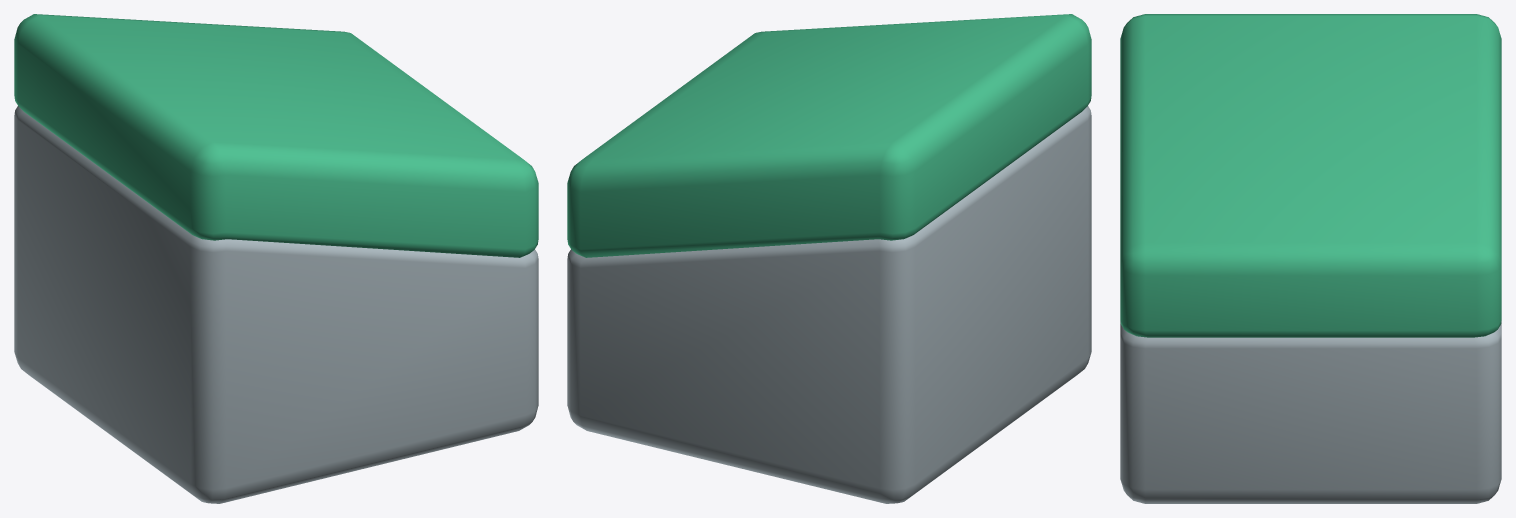
Rendered from tileSlopeMediumHigh_teamGreen.gltf.glb.
The picture shows the model from 3 angles, left to right: view 1: azimuth 30°, elevation 25°; view 2: azimuth 150°, elevation 25°; view 3: azimuth 270°, elevation 25°; orthographic projection. The views are drawn at different scales.
Visible parts, largest first — view 1: tileSlopeMediumHigh_forest; view 2: tileSlopeMediumHigh_forest; view 3: tileSlopeMediumHigh_forest.
Part boxes in pixels (bbox=[...]): tileSlopeMediumHigh_forest: bbox=[14, 14, 538, 503]; tileSlopeMediumHigh_forest: bbox=[567, 14, 1091, 503]; tileSlopeMediumHigh_forest: bbox=[1120, 14, 1501, 503].
Size of the model in its own units: 2 by 2 by 2.
